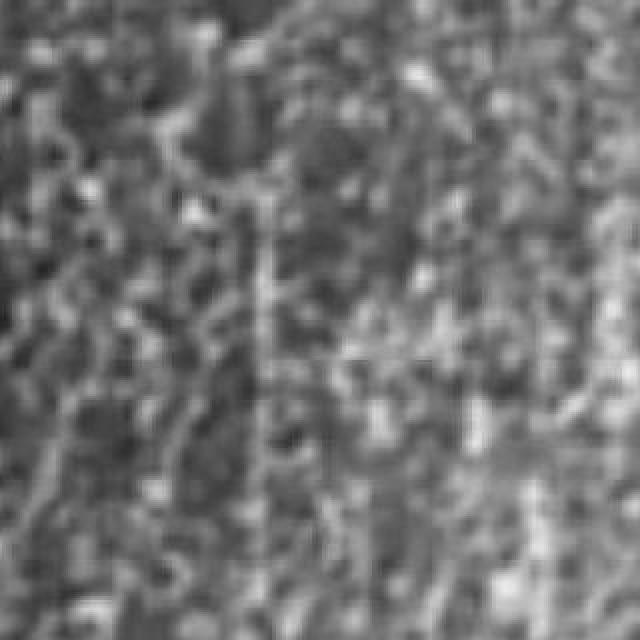Physical-damage: (125, 109, 427, 367)
